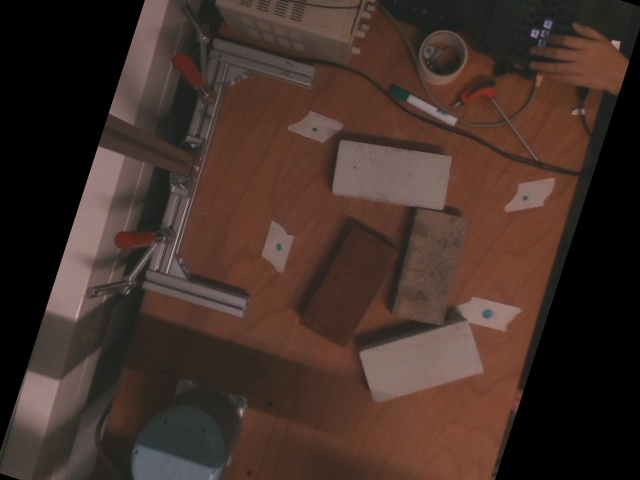brick: (300, 226, 401, 348), (360, 321, 481, 402), (392, 206, 469, 321), (333, 137, 449, 210)
